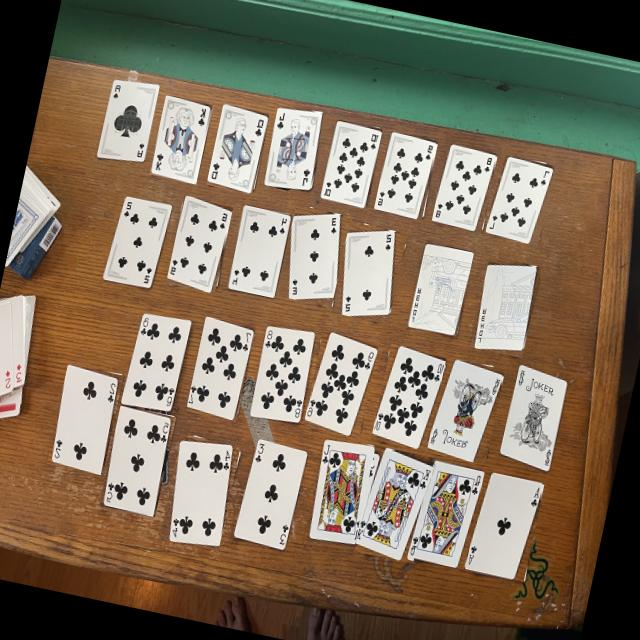10 of clubs: (372, 344, 446, 448), (321, 119, 382, 206)
2 of clubs: (53, 363, 119, 472), (343, 228, 397, 314)
3 of clubs: (234, 437, 307, 548), (289, 211, 341, 298)
4 of clubs: (170, 438, 233, 545), (228, 204, 291, 297)
5 of clubs: (104, 404, 172, 514), (103, 195, 172, 287)
6 of clubs: (121, 311, 191, 410), (167, 195, 231, 292)
7 of clubs: (187, 315, 254, 418), (486, 155, 554, 241)
8 of clubs: (250, 324, 315, 422), (432, 143, 497, 229)
9 of clubs: (305, 331, 377, 435), (375, 130, 437, 218)
Ace of clubs: (465, 472, 543, 579), (97, 78, 159, 161)
Jack of clubs: (309, 437, 374, 543), (265, 106, 323, 188)
Joker: (428, 358, 503, 459), (500, 365, 567, 470), (408, 243, 473, 334), (476, 261, 538, 348)
King of clubs: (356, 447, 433, 558), (152, 94, 211, 183)
Queen of clubs: (408, 459, 484, 566), (208, 103, 268, 193)
